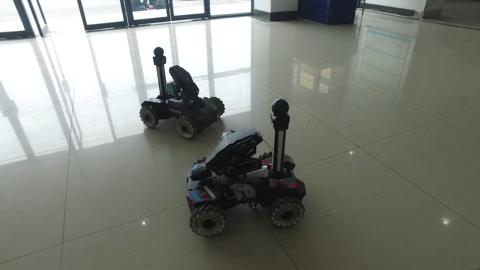chariot: (183, 97, 313, 240), (137, 44, 227, 142)
